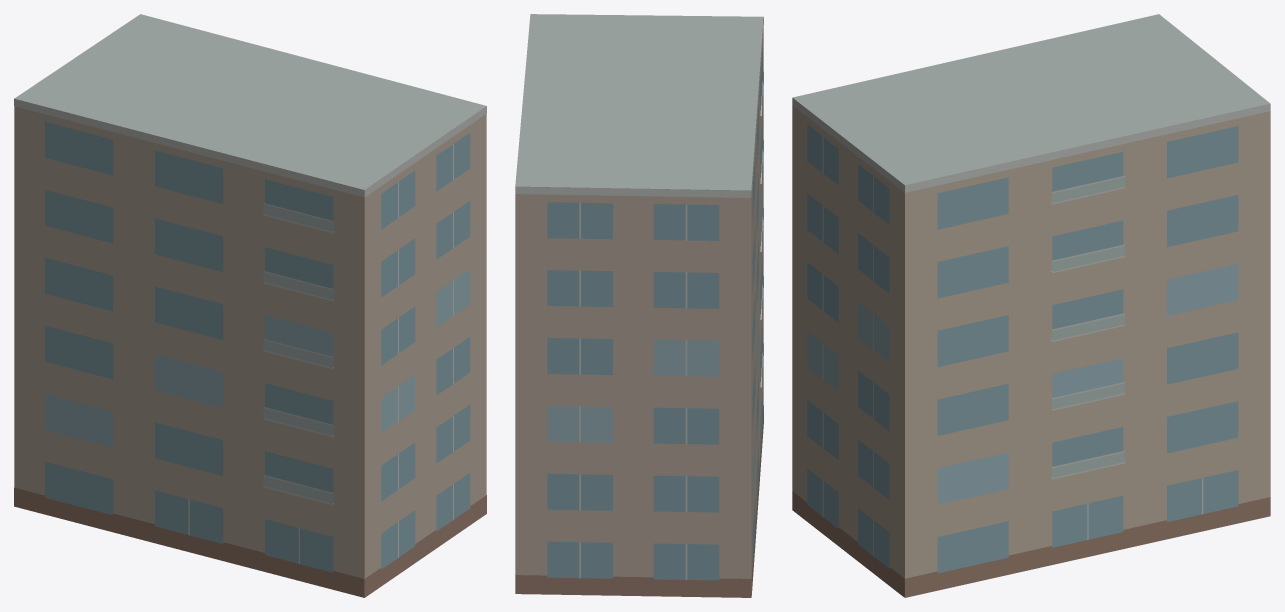
Rendered from survey-upis-32884348.glb.
The picture shows the model from 3 angles, left to right: view 1: azimuth 30°, elevation 25°; view 2: azimuth 150°, elevation 25°; view 3: azimuth 270°, elevation 25°; orthographic projection.
Parts seen in each view (by area): view 1: survey-upis-32884348.tmp; view 2: survey-upis-32884348.tmp; view 3: survey-upis-32884348.tmp.
Part boxes in pixels (box(x1,y1,x2,y2)): survey-upis-32884348.tmp: box(14, 14, 486, 597); survey-upis-32884348.tmp: box(515, 14, 763, 597); survey-upis-32884348.tmp: box(792, 14, 1270, 597).
Size of the model in its own units: 11.81 by 13.25 by 13.93.
